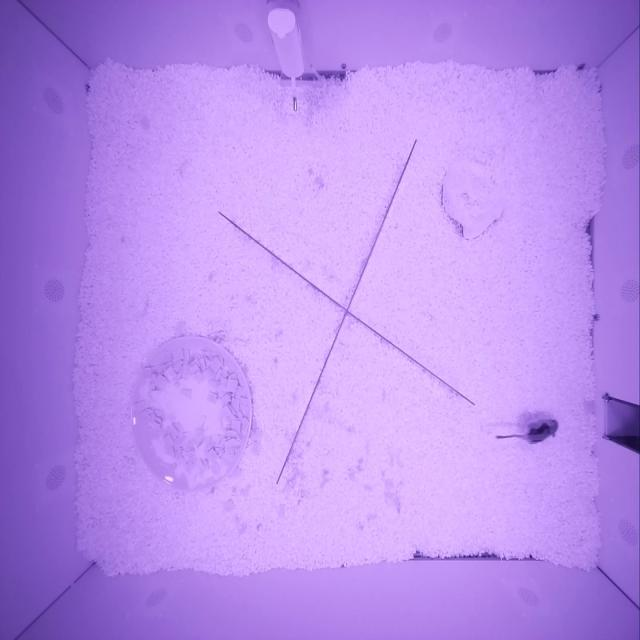pup_v_stripe: (524, 417, 559, 445)
